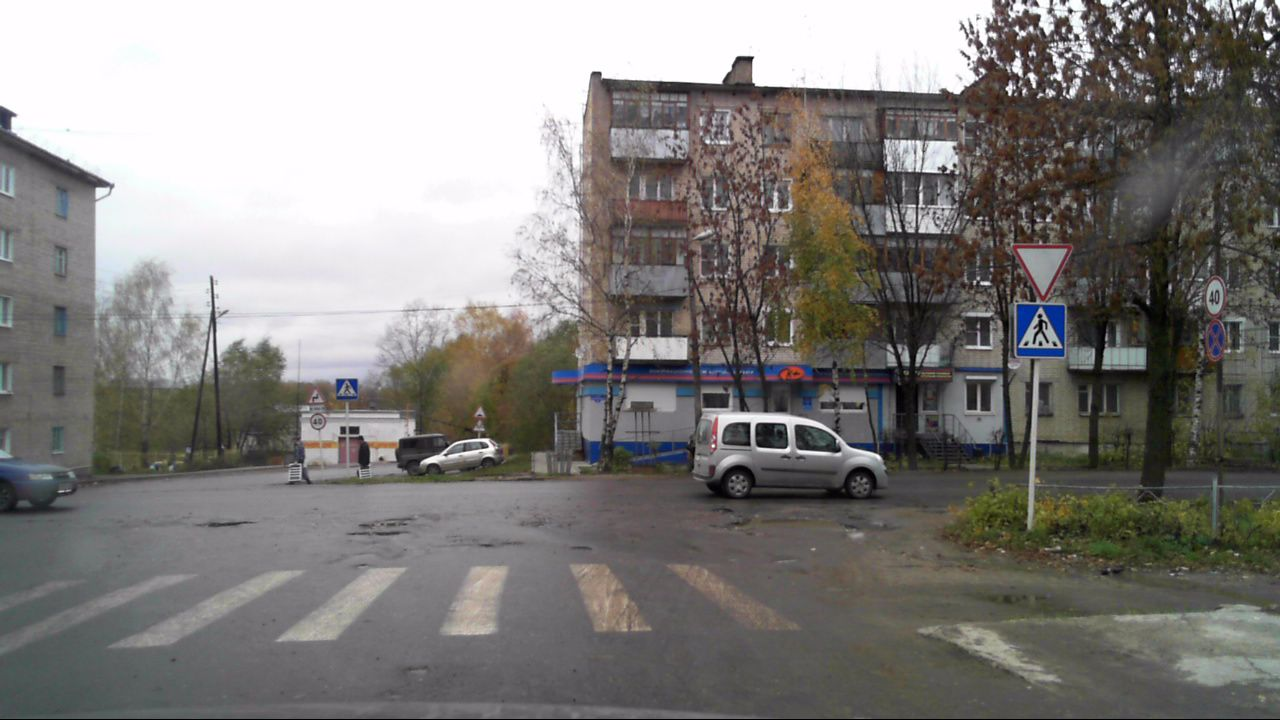No Parking: (1203, 318, 1230, 362)
speed_warning_40: (308, 410, 329, 430)
